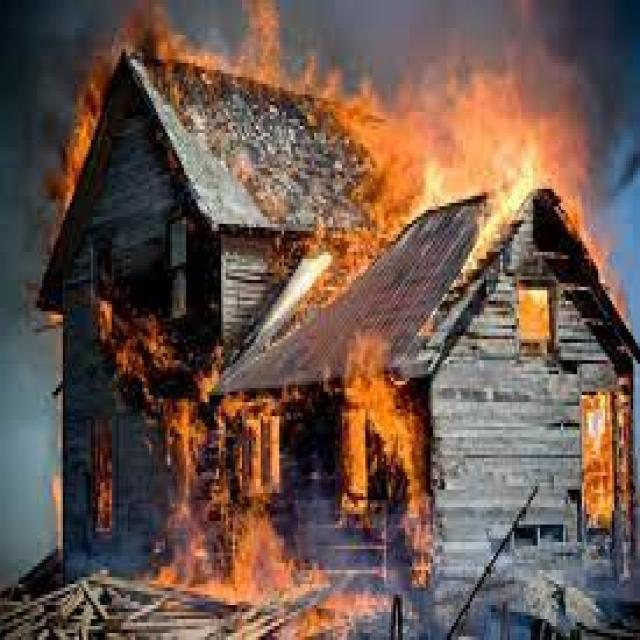Fire: (127, 341, 332, 627), (350, 57, 586, 287), (346, 335, 436, 596), (584, 395, 632, 542)
Smoke: (527, 7, 640, 204), (0, 0, 72, 284)
